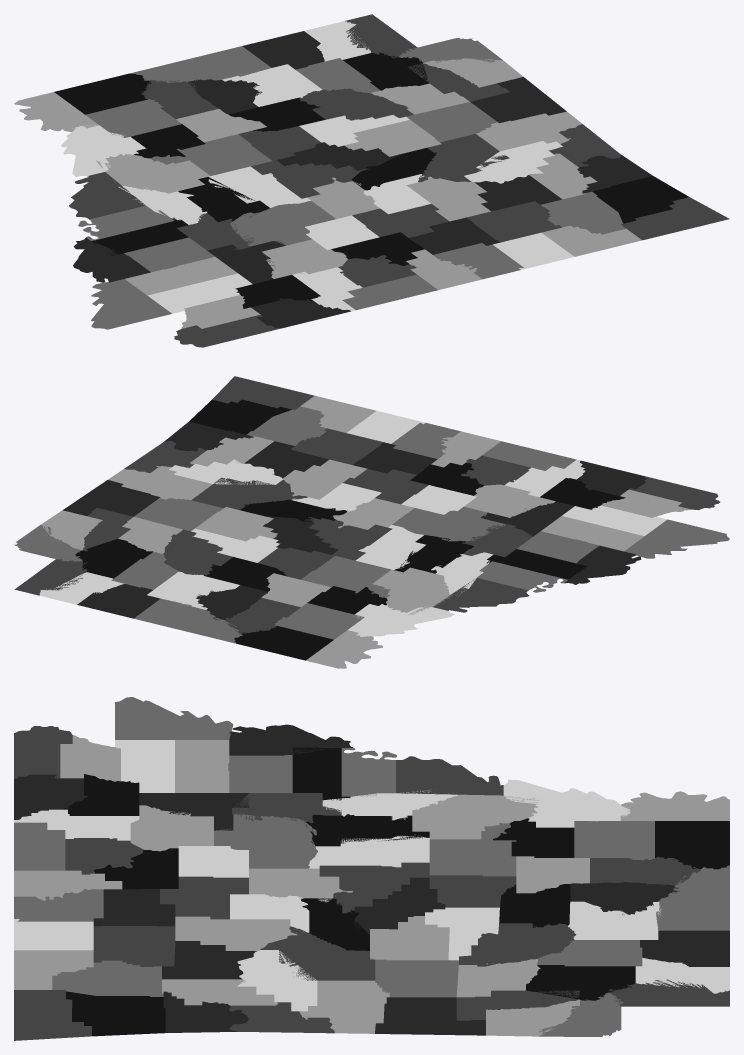
File: Arkansas_Counties_2D.fbx
The picture shows the model from 3 angles, top to bottom: view 1: azimuth 30°, elevation 25°; view 2: azimuth 150°, elevation 25°; view 3: azimuth 270°, elevation 25°; orthographic projection. The views are drawn at different scales.
Visible parts, largest first — view 1: AR_White_County_2D, AR_Arkansas_County_2D, AR_Union_County_2D, AR_Mississippi_County_2D, AR_Yell_County_2D, AR_Washington_County_2D, AR_Desha_County_2D, AR_Jefferson_County_2D, AR_Scott_County_2D, AR_Clark_County_2D, AR_Ashley_County_2D, AR_Polk_County_2D (+63 smaller); view 2: AR_White_County_2D, AR_Arkansas_County_2D, AR_Union_County_2D, AR_Yell_County_2D, AR_Mississippi_County_2D, AR_Washington_County_2D, AR_Desha_County_2D, AR_Jefferson_County_2D, AR_Scott_County_2D, AR_Clark_County_2D, AR_Ashley_County_2D, AR_Polk_County_2D (+63 smaller); view 3: AR_White_County_2D, AR_Arkansas_County_2D, AR_Union_County_2D, AR_Yell_County_2D, AR_Mississippi_County_2D, AR_Desha_County_2D, AR_Jefferson_County_2D, AR_Washington_County_2D, AR_Scott_County_2D, AR_Clark_County_2D, AR_Polk_County_2D, AR_Ashley_County_2D (+63 smaller).
Boxes of the visible parts, x1,y1,x2,y2 form: AR_White_County_2D: [230, 201, 335, 246]; AR_Arkansas_County_2D: [96, 154, 210, 193]; AR_Union_County_2D: [130, 46, 271, 83]; AR_Mississippi_County_2D: [91, 279, 171, 329]; AR_Yell_County_2D: [418, 134, 509, 182]; AR_Washington_County_2D: [592, 176, 689, 223]; AR_Desha_County_2D: [61, 125, 145, 176]; AR_Jefferson_County_2D: [150, 134, 271, 175]; AR_Scott_County_2D: [476, 111, 582, 151]; AR_Clark_County_2D: [299, 88, 413, 120]; AR_Ashley_County_2D: [54, 73, 151, 114]; AR_Polk_County_2D: [470, 77, 566, 123]; AR_White_County_2D: [392, 507, 505, 541]; AR_Arkansas_County_2D: [372, 567, 452, 614]; AR_Union_County_2D: [134, 598, 242, 643]; AR_Yell_County_2D: [191, 477, 307, 509]; AR_Mississippi_County_2D: [624, 519, 729, 558]; AR_Washington_County_2D: [189, 399, 291, 434]; AR_Desha_County_2D: [348, 604, 454, 636]; AR_Jefferson_County_2D: [301, 556, 391, 597]; AR_Scott_County_2D: [108, 466, 212, 499]; AR_Clark_County_2D: [163, 529, 232, 575]; AR_Ashley_County_2D: [234, 625, 333, 660]; AR_Polk_County_2D: [63, 480, 160, 516]; AR_White_County_2D: [214, 814, 317, 868]; AR_Arkansas_County_2D: [412, 794, 539, 839]; AR_Union_County_2D: [656, 865, 729, 930]; AR_Yell_County_2D: [260, 926, 375, 980]; AR_Mississippi_County_2D: [115, 697, 233, 739]; AR_Desha_County_2D: [503, 779, 630, 827]; AR_Jefferson_County_2D: [429, 823, 516, 876]; AR_Washington_County_2D: [66, 991, 165, 1036]; AR_Scott_County_2D: [299, 980, 389, 1033]; AR_Clark_County_2D: [459, 923, 576, 966]; AR_Polk_County_2D: [375, 997, 485, 1035]; AR_Ashley_County_2D: [655, 821, 729, 869].
Bounding box in the file's own units: 746 × 0 × 656.
